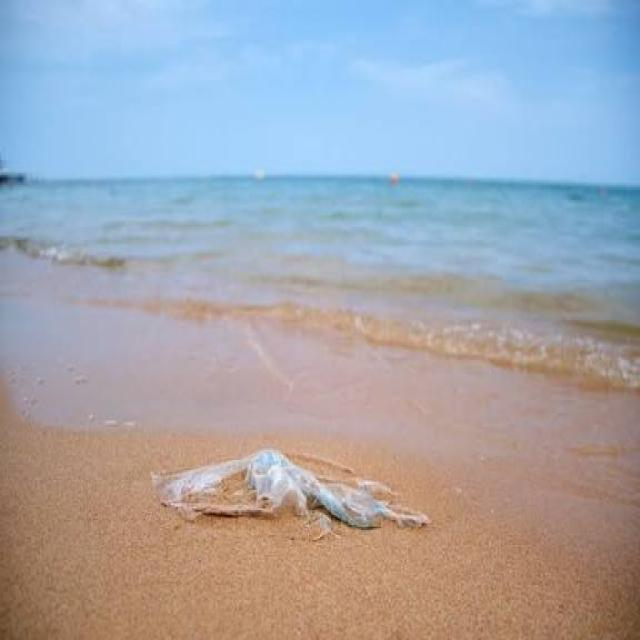bag: (145, 435, 438, 556)
